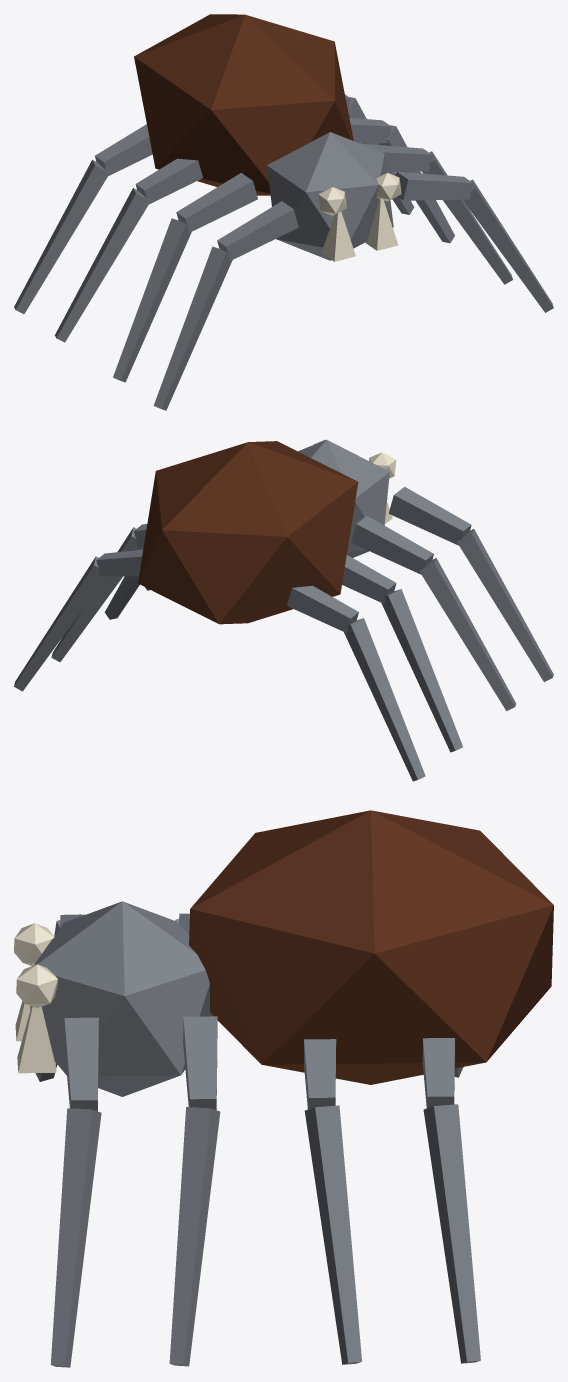
The model's file is npcpose_spider_idle_00.glb.
3 renders of one model, top to bottom at view 1: azimuth 30°, elevation 25°; view 2: azimuth 150°, elevation 25°; view 3: azimuth 270°, elevation 25°, orthographic. The views are drawn at different scales.
Parts seen in each view (by area): view 1: npcpose; view 2: npcpose; view 3: npcpose.
Part boxes in pixels (x1,y1,x2,y2): npcpose: (14,14,553,410); npcpose: (14,439,553,781); npcpose: (14,810,553,1367).
Size of the model in its own units: 1.33 by 0.8391 by 0.9995.
